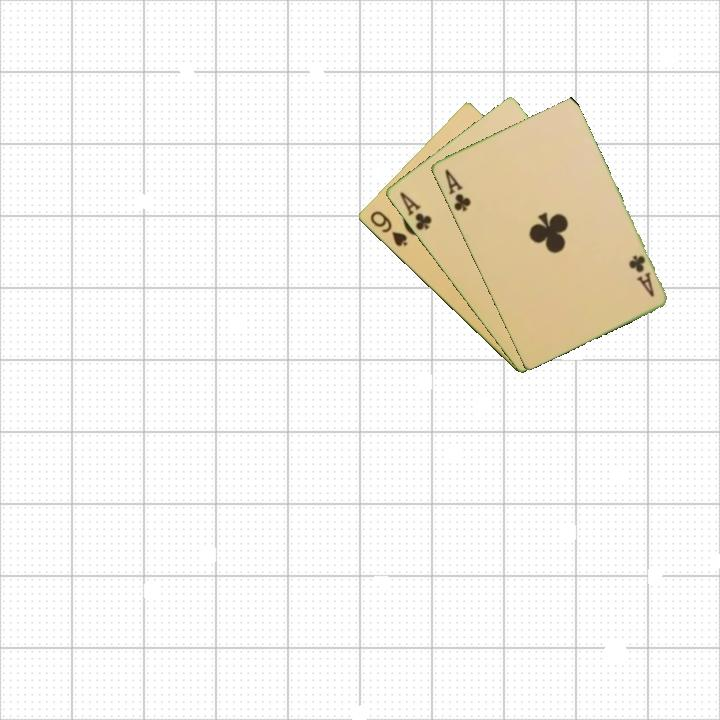9s: (366, 207, 410, 249)
Ac: (395, 188, 434, 233), (624, 251, 657, 299), (441, 166, 473, 214)
